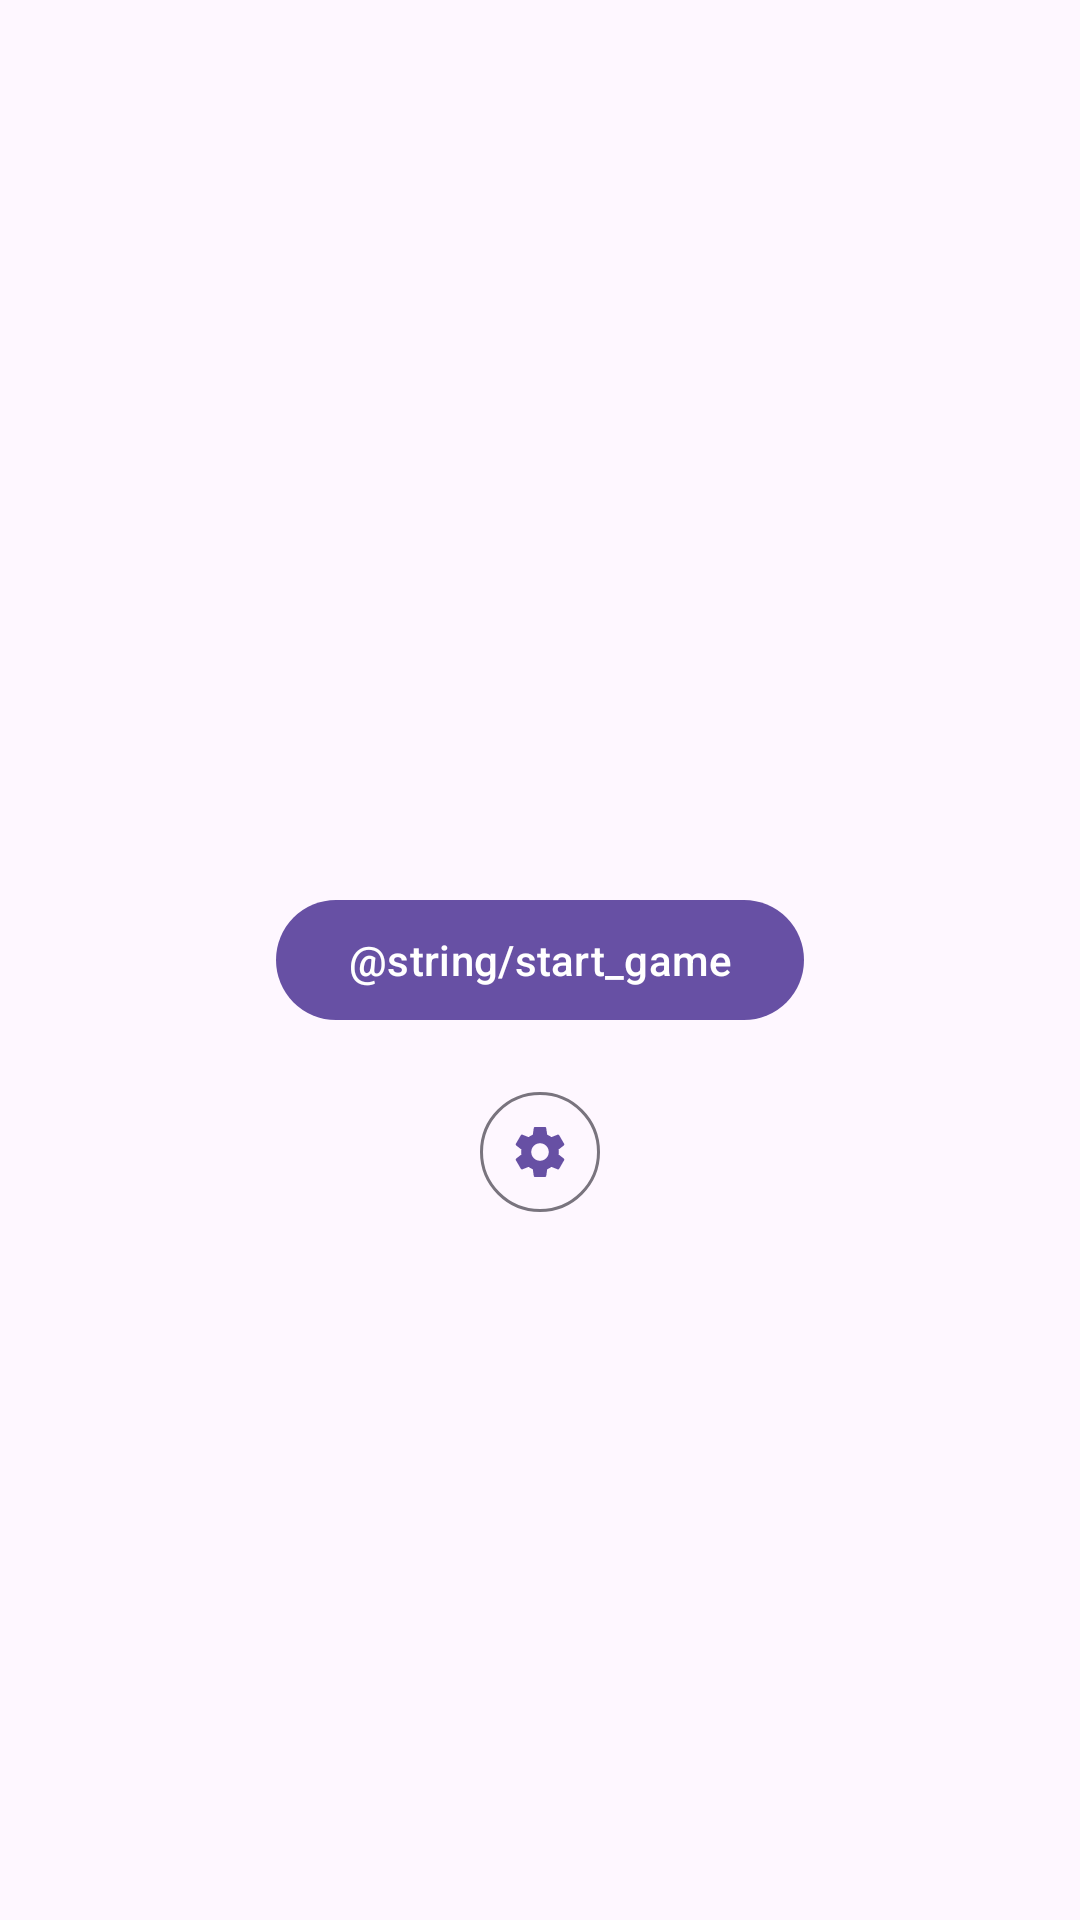

Named icons in this screenshot (1080px×1920px) and their bounding boxes, (x1, y1, x2, y2):
settings: (480, 1092, 600, 1212)
